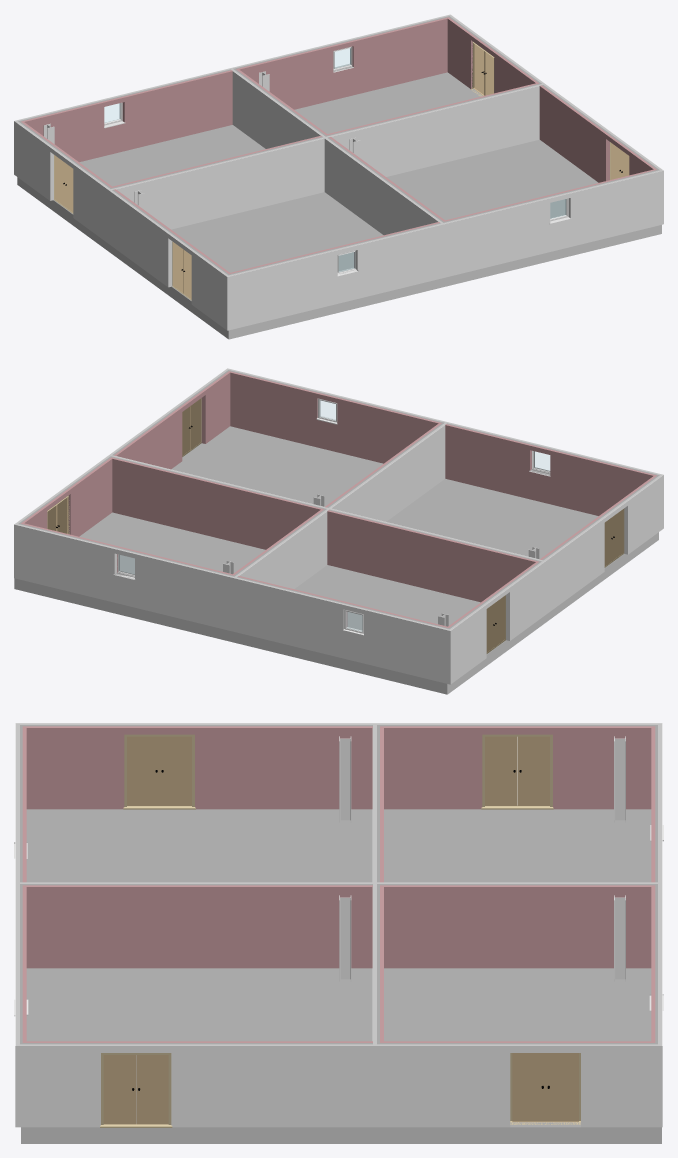
Rendered from GF glb.glb.
3 renders of one model, top to bottom at view 1: azimuth 30°, elevation 25°; view 2: azimuth 150°, elevation 25°; view 3: azimuth 270°, elevation 25°, orthographic. The views are drawn at different scales.
Visible parts, largest first — view 1: Floor Floors <325069 Floor-Grnd-Susp_65Scr-80Ins-100Blk-75PC, Wall Walls <324009 Wall-Ext_102Bwk-75Ins-100LBlk-12P<, Wall Walls <324228 Wall-Ext_102Bwk-75Ins-100LBlk-12P<, Wall Walls <324124 Wall-Ext_102Bwk-75Ins-100LBlk-12P<, Wall Walls <323976 Wall-Ext_102Bwk-75Ins-100LBlk-12P<, Wall Walls <324156 Wall-Ext_102Bwk-75Ins-100LBlk-12P<, Wall Walls <324074 Wall-Ext_102Bwk-75Ins-100LBlk-12P<, FamilyInstance Doors Doors_ExtDbl_Flush <324335 1810x2110mm<, FamilyInstance Doors Doors_ExtDbl_Flush <324270 1810x2110mm<, FamilyInstance Doors Doors_ExtDbl_Flush <324241 1810x2110mm<, FamilyInstance Doors Doors_ExtDbl_Flush <324308 1810x2110mm<; view 2: Floor Floors <325069 Floor-Grnd-Susp_65Scr-80Ins-100Blk-75PC, Wall Walls <324124 Wall-Ext_102Bwk-75Ins-100LBlk-12P<, Wall Walls <324228 Wall-Ext_102Bwk-75Ins-100LBlk-12P<, Wall Walls <324009 Wall-Ext_102Bwk-75Ins-100LBlk-12P<, Wall Walls <323976 Wall-Ext_102Bwk-75Ins-100LBlk-12P<, Wall Walls <324156 Wall-Ext_102Bwk-75Ins-100LBlk-12P<, Wall Walls <324074 Wall-Ext_102Bwk-75Ins-100LBlk-12P<, FamilyInstance Doors Doors_ExtDbl_Flush <324270 1810x2110mm<, FamilyInstance Doors Doors_ExtDbl_Flush <324308 1810x2110mm<, FamilyInstance Doors Doors_ExtDbl_Flush <324241 1810x2110mm<, FamilyInstance Doors Doors_ExtDbl_Flush <324335 1810x2110mm<; view 3: Floor Floors <325069 Floor-Grnd-Susp_65Scr-80Ins-100Blk-75PC, Wall Walls <324156 Wall-Ext_102Bwk-75Ins-100LBlk-12P<, Wall Walls <324074 Wall-Ext_102Bwk-75Ins-100LBlk-12P<, Wall Walls <323976 Wall-Ext_102Bwk-75Ins-100LBlk-12P<, FamilyInstance Doors Doors_ExtDbl_Flush <324241 1810x2110mm<, FamilyInstance Doors Doors_ExtDbl_Flush <324270 1810x2110mm<, FamilyInstance Doors Doors_ExtDbl_Flush <324308 1810x2110mm<, FamilyInstance Doors Doors_ExtDbl_Flush <324335 1810x2110mm<, Wall Walls <324009 Wall-Ext_102Bwk-75Ins-100LBlk-12P<, FamilyInstance Structural Columns UC-Universal Columns-Colum (×4), Wall Walls <324124 Wall-Ext_102Bwk-75Ins-100LBlk-12P<, Wall Walls <324228 Wall-Ext_102Bwk-75Ins-100LBlk-12P<.
Part boxes in pixels (left/top/right/bottom): Floor Floors <325069 Floor-Grnd-Susp_65Scr-80Ins-100Blk-75PC: left=17, top=72, right=661, bottom=339; Wall Walls <324009 Wall-Ext_102Bwk-75Ins-100LBlk-12P<: left=228, top=169, right=663, bottom=328; Wall Walls <324228 Wall-Ext_102Bwk-75Ins-100LBlk-12P<: left=111, top=83, right=542, bottom=229; Wall Walls <324124 Wall-Ext_102Bwk-75Ins-100LBlk-12P<: left=14, top=15, right=448, bottom=162; Wall Walls <323976 Wall-Ext_102Bwk-75Ins-100LBlk-12P<: left=14, top=120, right=233, bottom=330; Wall Walls <324156 Wall-Ext_102Bwk-75Ins-100LBlk-12P<: left=231, top=69, right=444, bottom=235; Wall Walls <324074 Wall-Ext_102Bwk-75Ins-100LBlk-12P<: left=447, top=14, right=663, bottom=182; FamilyInstance Doors Doors_ExtDbl_Flush <324335 1810x2110mm<: left=470, top=42, right=494, bottom=96; FamilyInstance Doors Doors_ExtDbl_Flush <324270 1810x2110mm<: left=172, top=241, right=191, bottom=300; FamilyInstance Doors Doors_ExtDbl_Flush <324241 1810x2110mm<: left=54, top=155, right=73, bottom=213; FamilyInstance Doors Doors_ExtDbl_Flush <324308 1810x2110mm<: left=610, top=142, right=629, bottom=179; Floor Floors <325069 Floor-Grnd-Susp_65Scr-80Ins-100Blk-75PC: left=14, top=426, right=658, bottom=694; Wall Walls <324124 Wall-Ext_102Bwk-75Ins-100LBlk-12P<: left=15, top=523, right=448, bottom=682; Wall Walls <324228 Wall-Ext_102Bwk-75Ins-100LBlk-12P<: left=111, top=455, right=543, bottom=602; Wall Walls <324009 Wall-Ext_102Bwk-75Ins-100LBlk-12P<: left=226, top=368, right=662, bottom=515; Wall Walls <323976 Wall-Ext_102Bwk-75Ins-100LBlk-12P<: left=444, top=474, right=663, bottom=684; Wall Walls <324156 Wall-Ext_102Bwk-75Ins-100LBlk-12P<: left=233, top=423, right=446, bottom=588; Wall Walls <324074 Wall-Ext_102Bwk-75Ins-100LBlk-12P<: left=14, top=369, right=230, bottom=579; FamilyInstance Doors Doors_ExtDbl_Flush <324270 1810x2110mm<: left=604, top=508, right=624, bottom=567; FamilyInstance Doors Doors_ExtDbl_Flush <324308 1810x2110mm<: left=182, top=398, right=201, bottom=456; FamilyInstance Doors Doors_ExtDbl_Flush <324241 1810x2110mm<: left=486, top=595, right=505, bottom=653; FamilyInstance Doors Doors_ExtDbl_Flush <324335 1810x2110mm<: left=47, top=495, right=69, bottom=533; Floor Floors <325069 Floor-Grnd-Susp_65Scr-80Ins-100Blk-75PC: left=21, top=809, right=661, bottom=1143; Wall Walls <324156 Wall-Ext_102Bwk-75Ins-100LBlk-12P<: left=20, top=882, right=657, bottom=968; Wall Walls <324074 Wall-Ext_102Bwk-75Ins-100LBlk-12P<: left=20, top=1041, right=662, bottom=1127; Wall Walls <323976 Wall-Ext_102Bwk-75Ins-100LBlk-12P<: left=15, top=723, right=662, bottom=809; FamilyInstance Doors Doors_ExtDbl_Flush <324241 1810x2110mm<: left=481, top=734, right=553, bottom=809; FamilyInstance Doors Doors_ExtDbl_Flush <324270 1810x2110mm<: left=123, top=734, right=195, bottom=809; FamilyInstance Doors Doors_ExtDbl_Flush <324308 1810x2110mm<: left=100, top=1053, right=172, bottom=1127; FamilyInstance Doors Doors_ExtDbl_Flush <324335 1810x2110mm<: left=510, top=1053, right=580, bottom=1124; Wall Walls <324009 Wall-Ext_102Bwk-75Ins-100LBlk-12P<: left=15, top=723, right=26, bottom=1127; FamilyInstance Structural Columns UC-Universal Columns-Colum (×4): left=339, top=736, right=625, bottom=981; Wall Walls <324124 Wall-Ext_102Bwk-75Ins-100LBlk-12P<: left=651, top=723, right=662, bottom=1045; Wall Walls <324228 Wall-Ext_102Bwk-75Ins-100LBlk-12P<: left=372, top=725, right=383, bottom=1044.
Bounding box in the file's own units: 19620 × 2772 × 16665.
